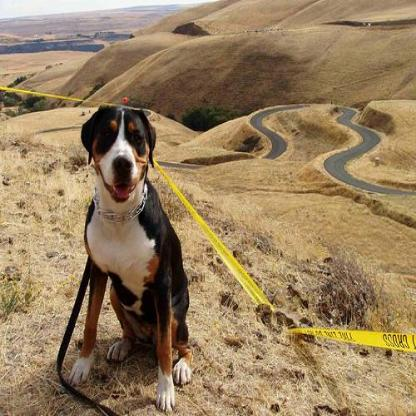Greater_Swiss_Mountain_dog: (68, 101, 192, 408)
